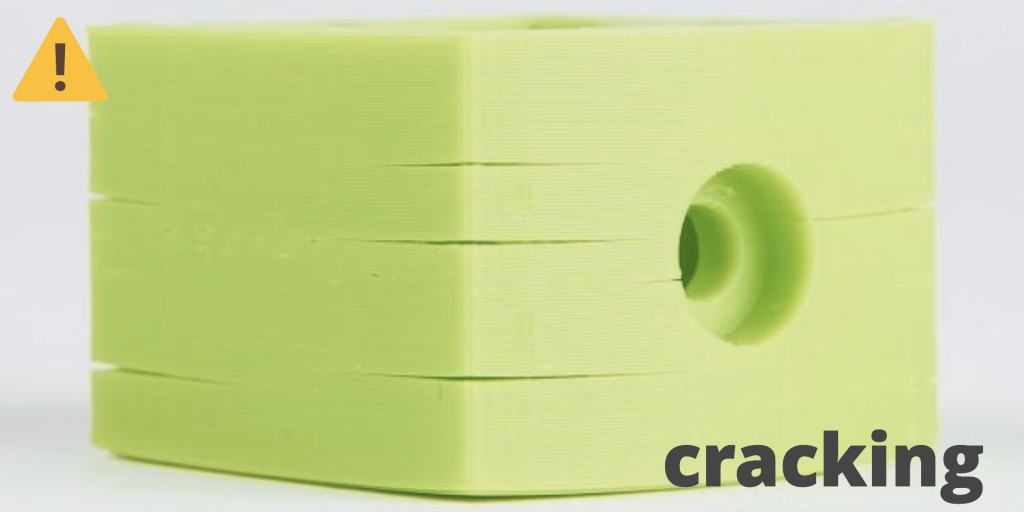crack: (370, 122, 648, 439), (57, 155, 280, 435), (797, 130, 942, 351)
